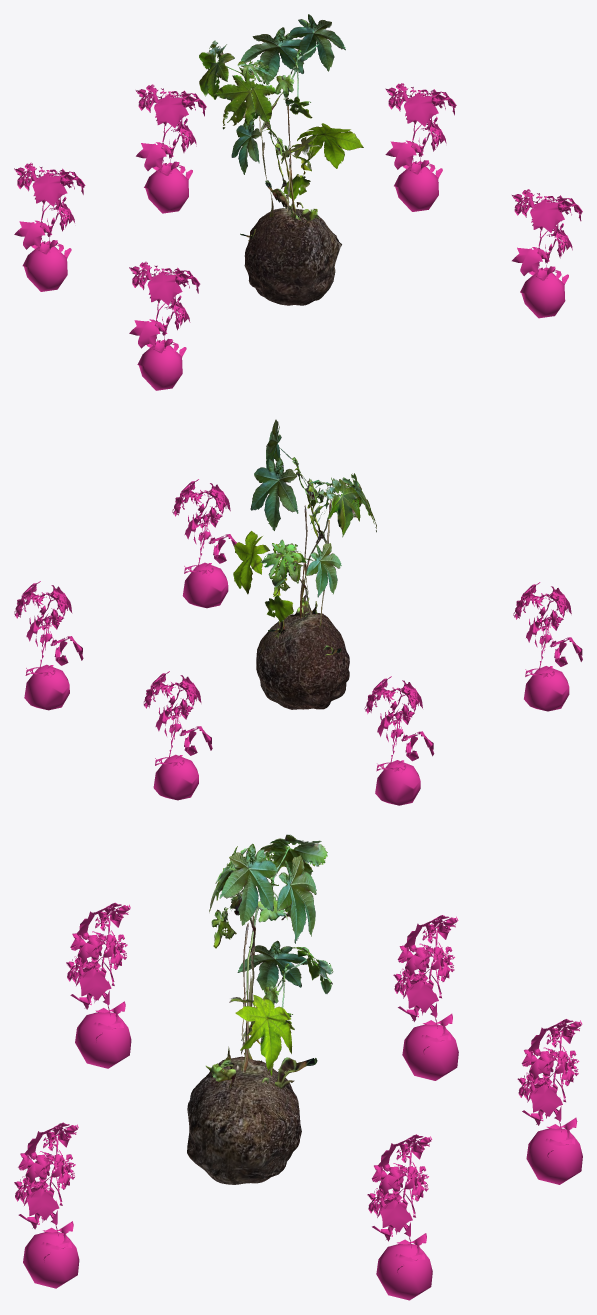
The model's file is theyhadaplant.glb.
3 views of the same model, one above another, from view 1: azimuth 30°, elevation 25°; view 2: azimuth 150°, elevation 25°; view 3: azimuth 270°, elevation 25° (orthographic). The views are drawn at different scales.
Parts seen in each view (by area): view 1: soil_reLo, leaf tall 1, leaf01, leaf04, leaf02, leaf05, leaf03, leaf tall 2, leaf_lower, leaf mid; view 2: soil_reLo, leaf01, leaf04, leaf03, leaf02, leaf05, leaf tall 1, leaf mid, leaf tall 2, leaf_lower; view 3: soil_reLo, leaf03, leaf05, leaf01, leaf04, leaf02, leaf tall 1, leaf tall 2, leaf mid, leaf_lower.
Boxes of the visible parts, x1,y1,x2,y2 form: soil_reLo: [244, 208, 341, 305]; leaf tall 1: [241, 14, 345, 216]; leaf01: [129, 261, 200, 390]; leaf04: [385, 83, 456, 211]; leaf02: [14, 162, 85, 291]; leaf05: [512, 189, 582, 318]; leaf03: [135, 84, 206, 213]; leaf tall 2: [199, 40, 318, 223]; leaf_lower: [280, 123, 363, 200]; leaf mid: [231, 98, 291, 240]; soil_reLo: [256, 612, 349, 709]; leaf01: [513, 582, 582, 711]; leaf04: [14, 581, 83, 710]; leaf03: [143, 671, 212, 800]; leaf02: [364, 676, 434, 805]; leaf05: [172, 479, 236, 608]; leaf tall 1: [250, 419, 331, 638]; leaf mid: [260, 539, 341, 661]; leaf tall 2: [287, 473, 376, 619]; leaf_lower: [233, 531, 301, 621]; soil_reLo: [187, 1056, 301, 1184]; leaf03: [517, 1019, 582, 1184]; leaf05: [14, 1122, 79, 1288]; leaf01: [66, 902, 131, 1068]; leaf04: [367, 1134, 432, 1300]; leaf02: [393, 915, 458, 1080]; leaf tall 1: [211, 843, 317, 1088]; leaf tall 2: [206, 834, 327, 1088]; leaf mid: [237, 940, 333, 1061]; leaf_lower: [229, 994, 292, 1075].
Bounding box in the file's own units: 3.89 × 2.35 × 3.48.
Materials: 6 (5 with a texture image).
